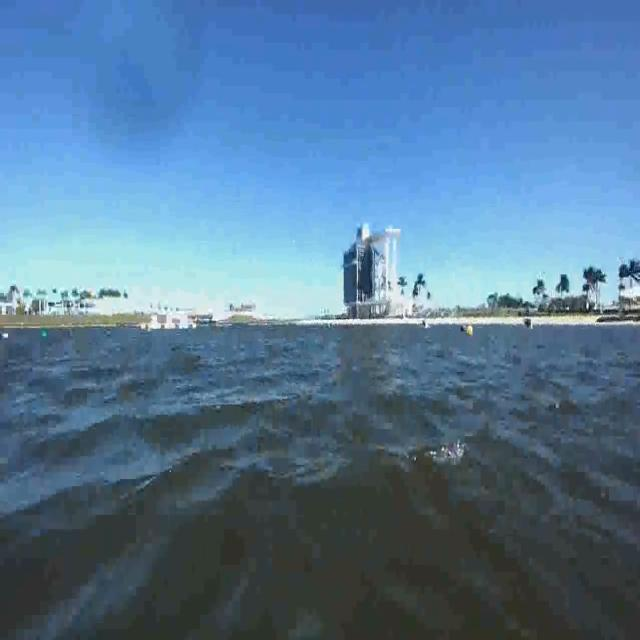yellow-buoy: (468, 324, 475, 338)
